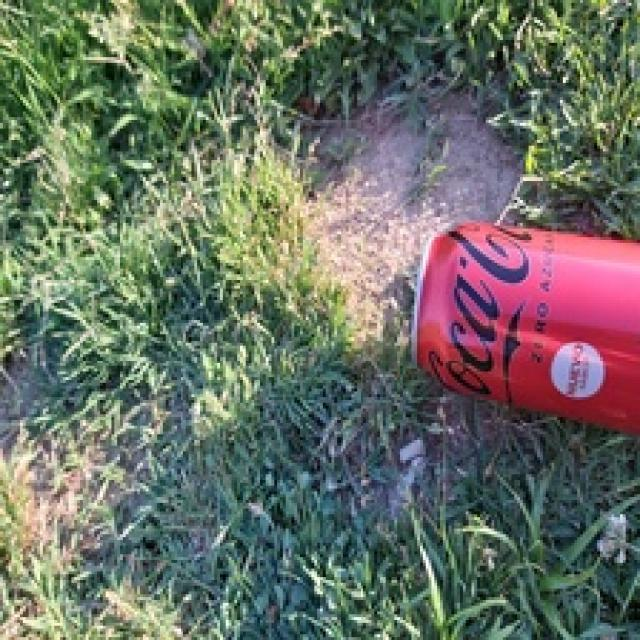recyclable: (408, 216, 640, 437)
